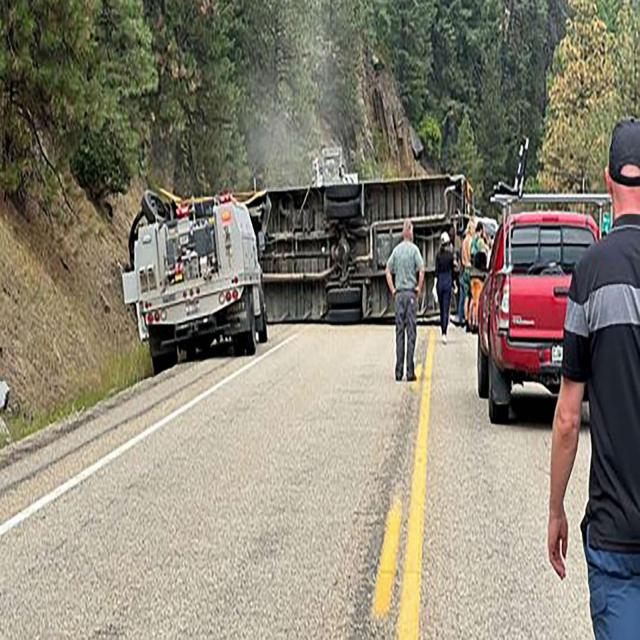Accident: (116, 167, 476, 366)
